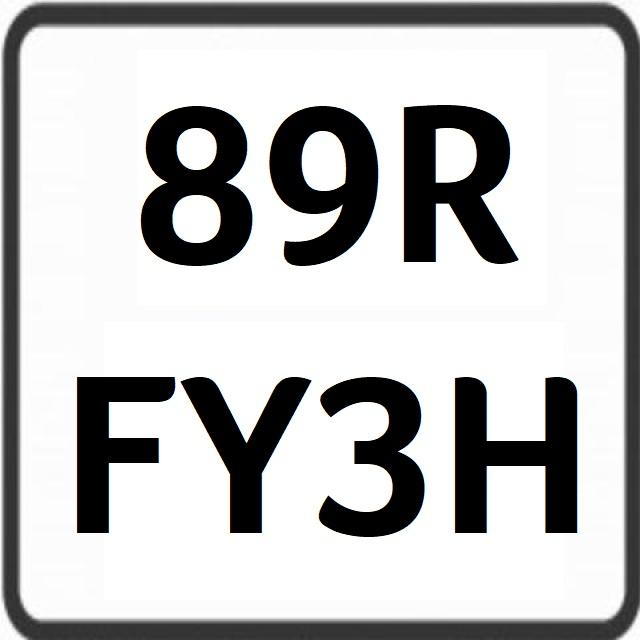3: (312, 357, 425, 550)
8: (135, 94, 256, 278)
F: (67, 355, 175, 542)
H: (449, 344, 589, 546)
R: (394, 90, 522, 284)
Y: (185, 352, 312, 553)
